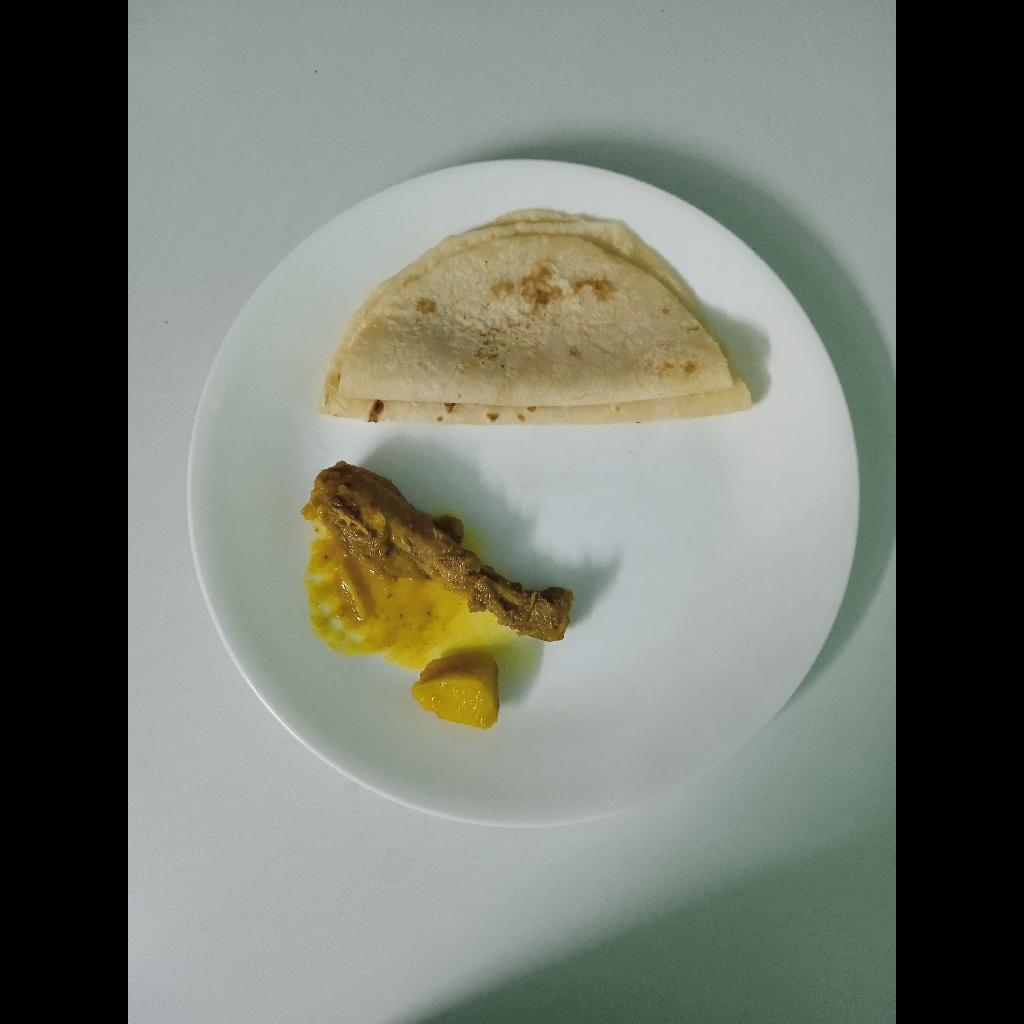chicken: (307, 464, 569, 640)
potato: (422, 652, 502, 725)
ruti: (323, 209, 756, 430)
